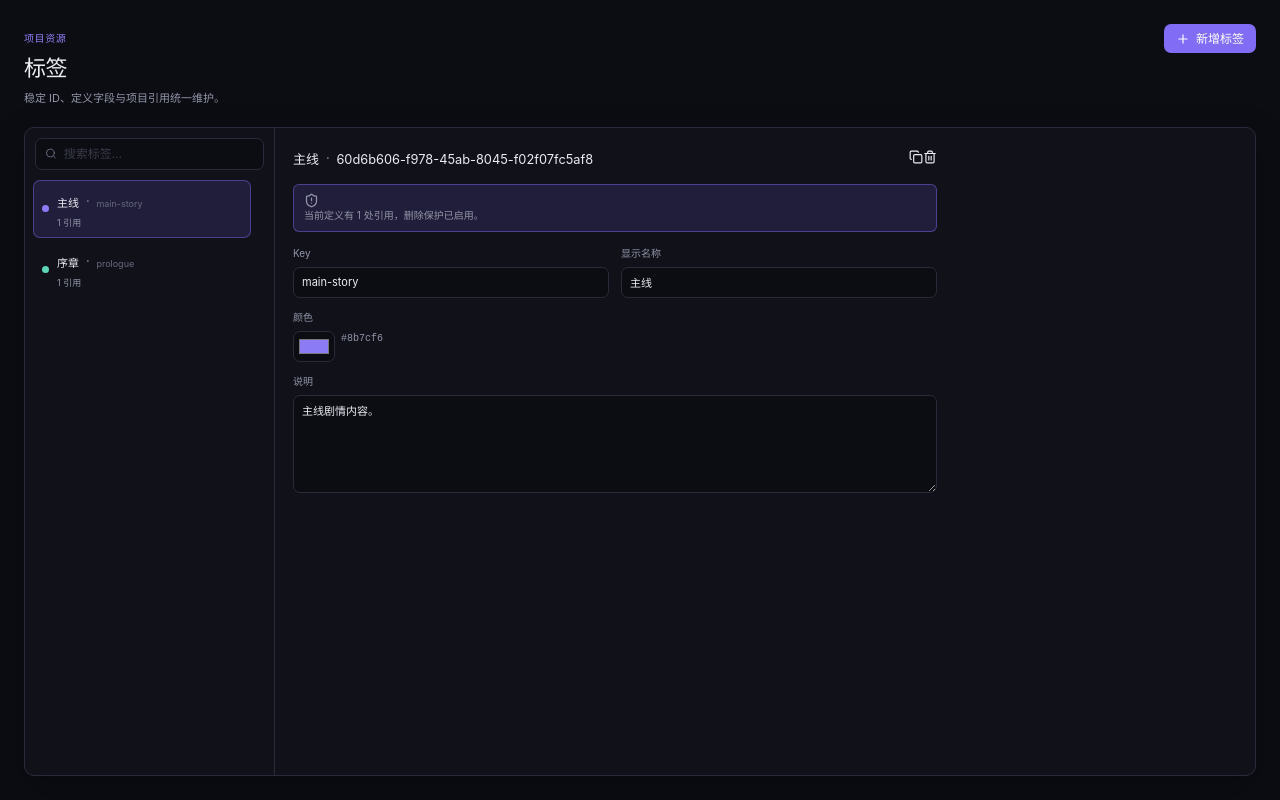
Test case: shows a visible warning when deleting a referenced resource
The image size is (1280, 800).
Click the button titled "删除": point(930, 156) [923,150,937,164]
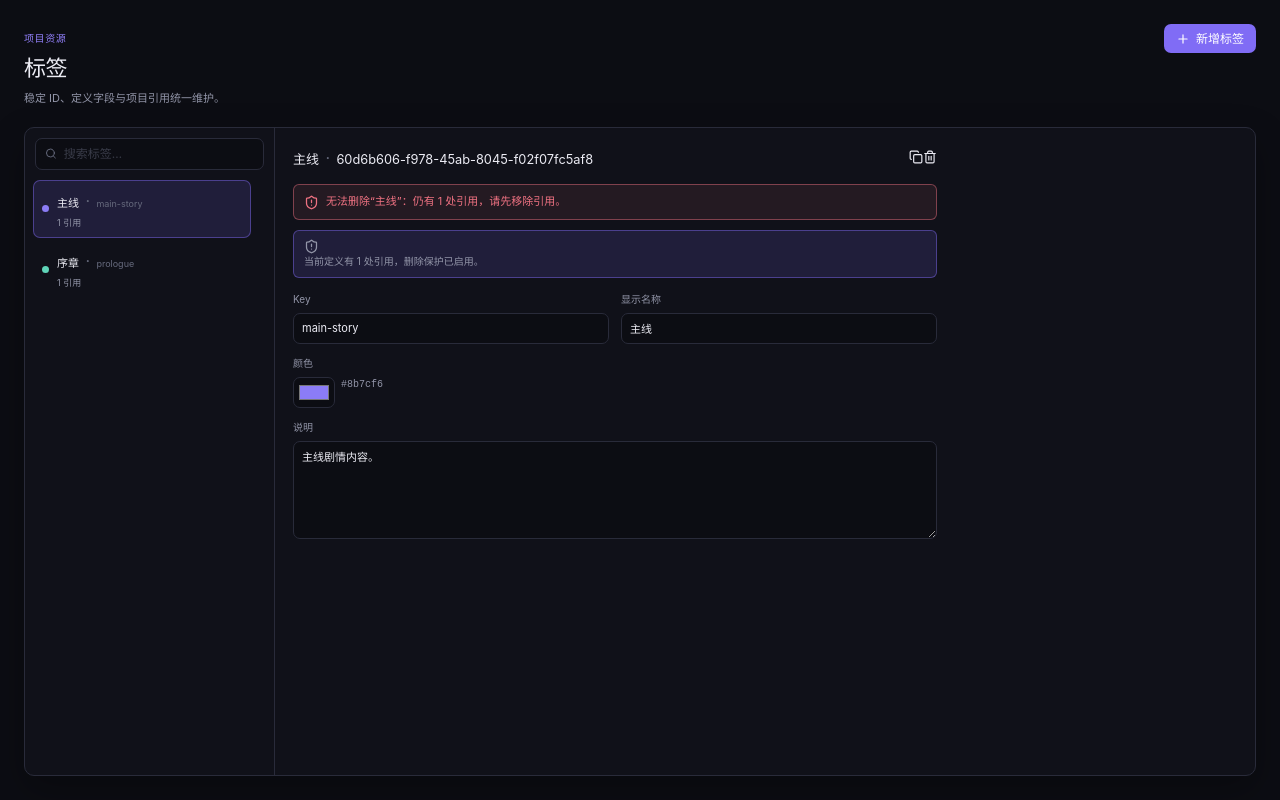
Check: the message reads "无法删除“主线”：仍有 1 处引用，请先移除引用。", box [326,194,566,208]
